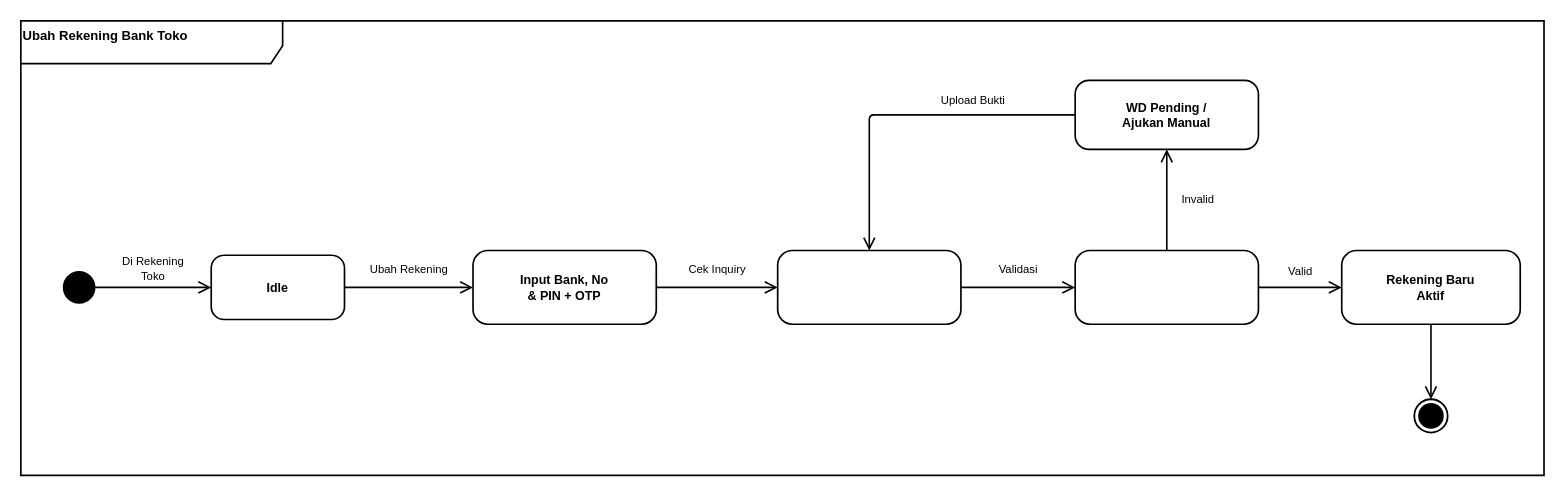
This 1566x497 diagram has some shape labels left out. The shapes that lost their labels are listed below. From the top down, each one's box as (x1, y1, x2, y2) in pixels, then its label:
(776, 249, 961, 325): Inquiry Bank & Cocok Nama KTP
(1074, 249, 1259, 325): Cek WD Pending & Nama KTP
